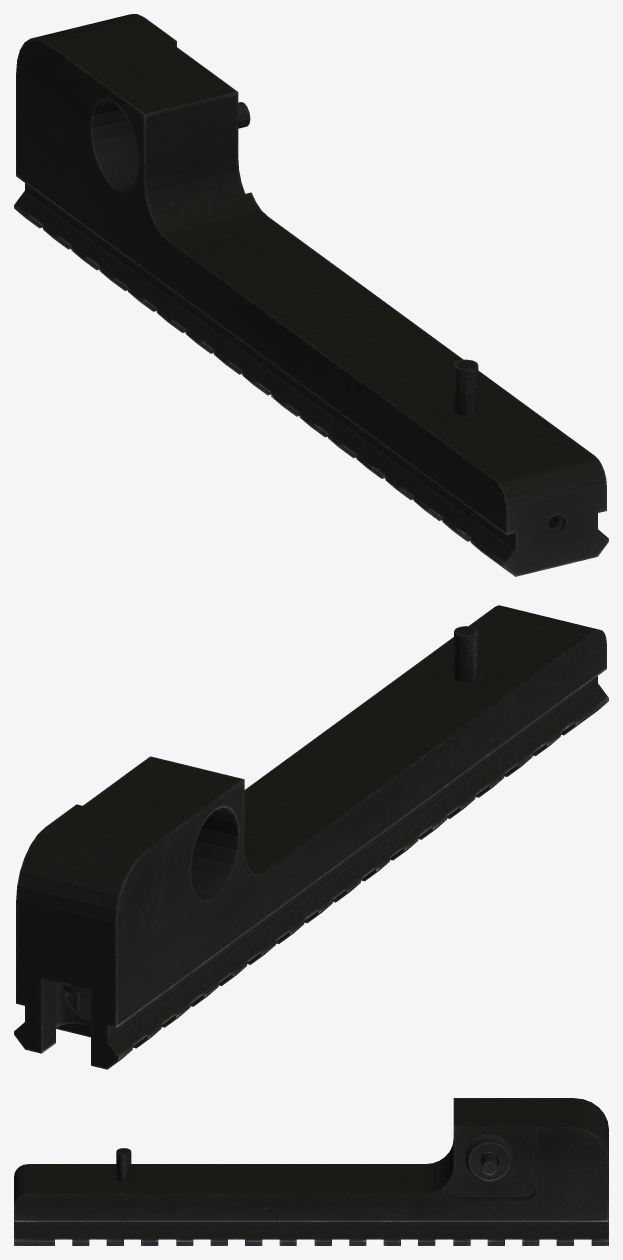
The picture shows the model from 3 angles, top to bottom: view 1: azimuth 30°, elevation 25°; view 2: azimuth 150°, elevation 25°; view 3: azimuth 270°, elevation 25°; orthographic projection. The views are drawn at different scales.
Parts seen in each view (by area): view 1: TW_5cc7015ae4a949001152b4c6_PZ_Import; view 2: TW_5cc7015ae4a949001152b4c6_PZ_Import; view 3: TW_5cc7015ae4a949001152b4c6_PZ_Import.
Boxes of the visible parts, <box> form: TW_5cc7015ae4a949001152b4c6_PZ_Import: <box>14,14,608,576</box>; TW_5cc7015ae4a949001152b4c6_PZ_Import: <box>14,605,608,1069</box>; TW_5cc7015ae4a949001152b4c6_PZ_Import: <box>14,1098,608,1245</box>.
Size of the model in its own units: 0.0155 by 0.0996 by 0.0223.
Materials: 1 (1 with a texture image).
